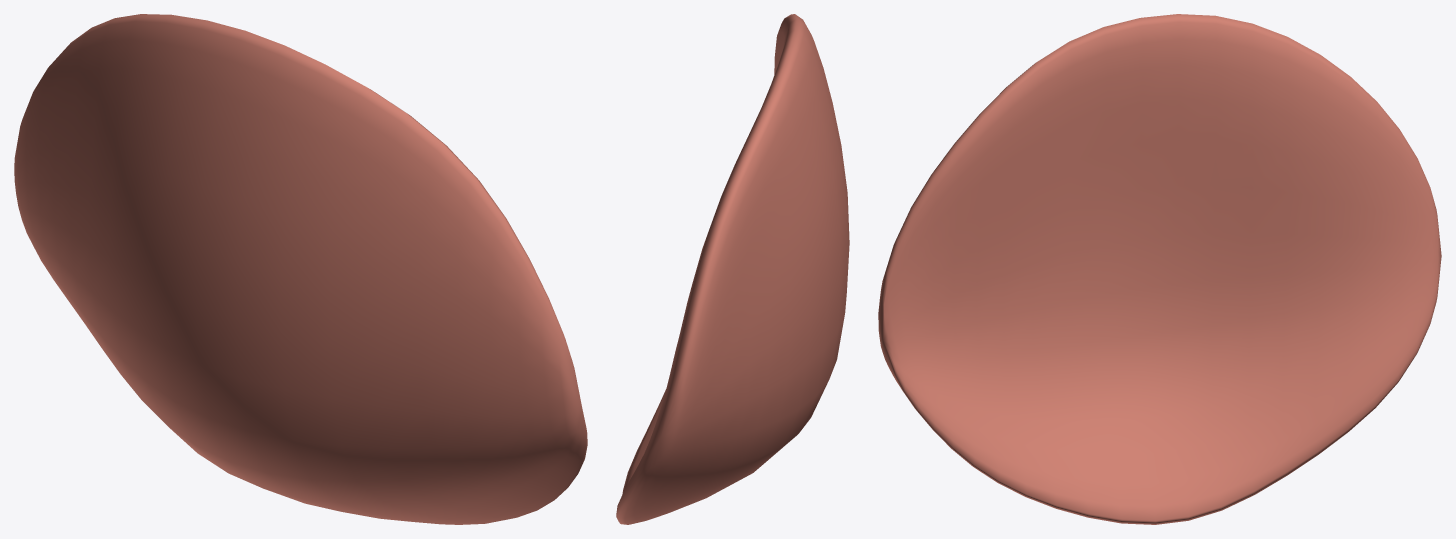
The picture shows the model from 3 angles, left to right: view 1: azimuth 30°, elevation 25°; view 2: azimuth 150°, elevation 25°; view 3: azimuth 270°, elevation 25°; orthographic projection. The views are drawn at different scales.
Visible parts, largest first — view 1: 右侧三角肌下囊; view 2: 右侧三角肌下囊; view 3: 右侧三角肌下囊.
Boxes of the visible parts, x1=… form: 右侧三角肌下囊: x1=14, y1=14, x2=587, y2=524; 右侧三角肌下囊: x1=616, y1=14, x2=849, y2=524; 右侧三角肌下囊: x1=878, y1=14, x2=1441, y2=524.
Bounding box in the file's own units: 0.0199 × 0.0366 × 0.0426.
